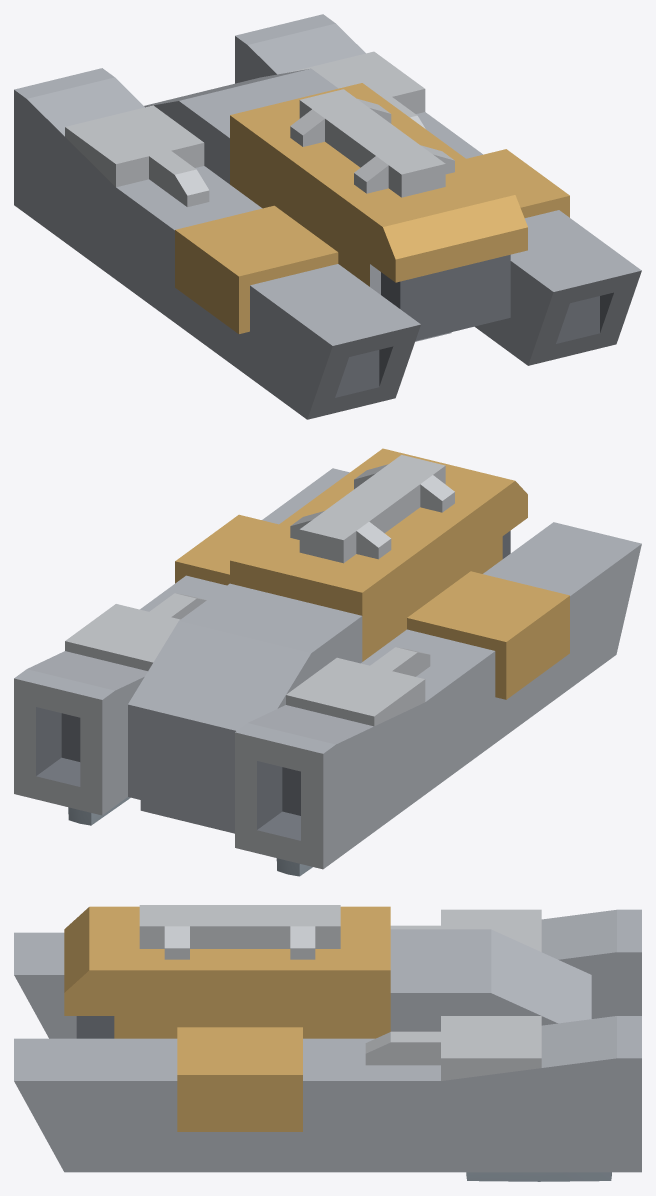
File: npc_tug.glb
3 renders of one model, top to bottom at view 1: azimuth 30°, elevation 25°; view 2: azimuth 150°, elevation 25°; view 3: azimuth 270°, elevation 25°, orthographic.
Parts seen in each view (by area): view 1: npc_tug; view 2: npc_tug; view 3: npc_tug.
Boxes of the visible parts, x1,y1,x2,y2 form: npc_tug: (14,14,641,419); npc_tug: (14,448,641,876); npc_tug: (14,905,641,1181).
Bounding box in the file's own units: 1.02 × 0.6351 × 1.7.
